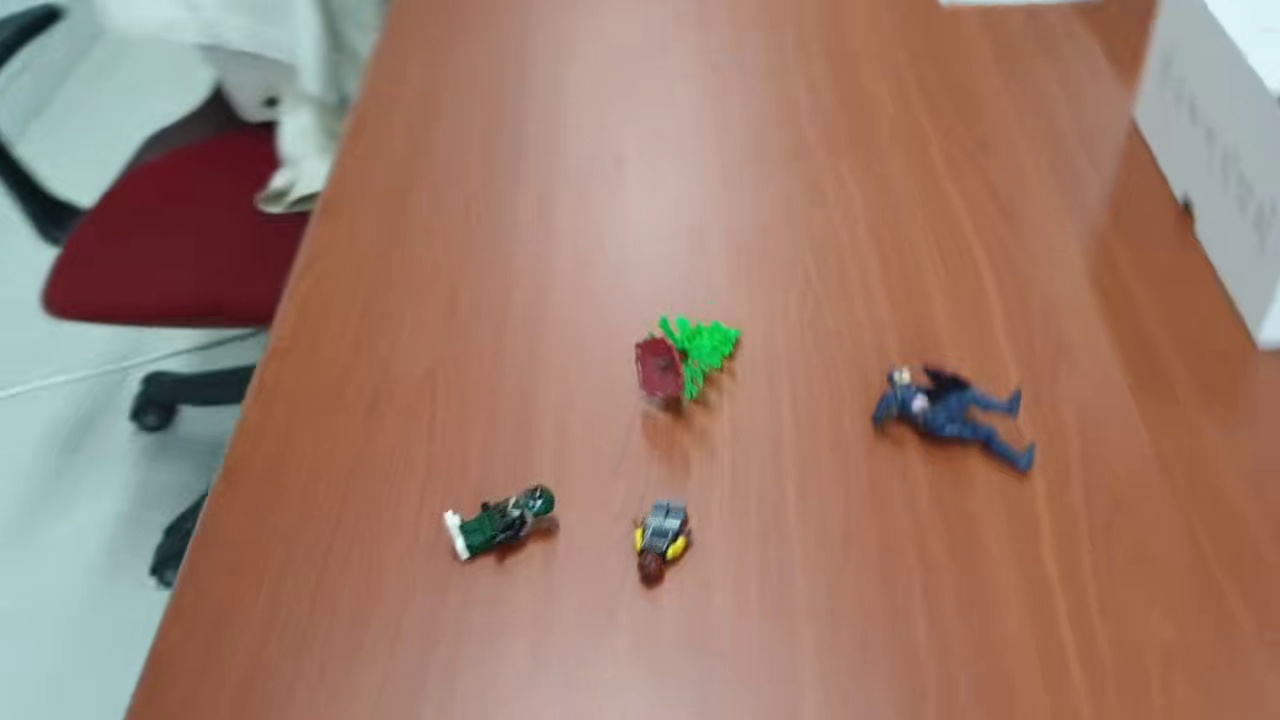people: (869, 362, 1038, 481), (439, 483, 563, 566), (625, 499, 693, 584)
tree: (632, 309, 746, 411)
